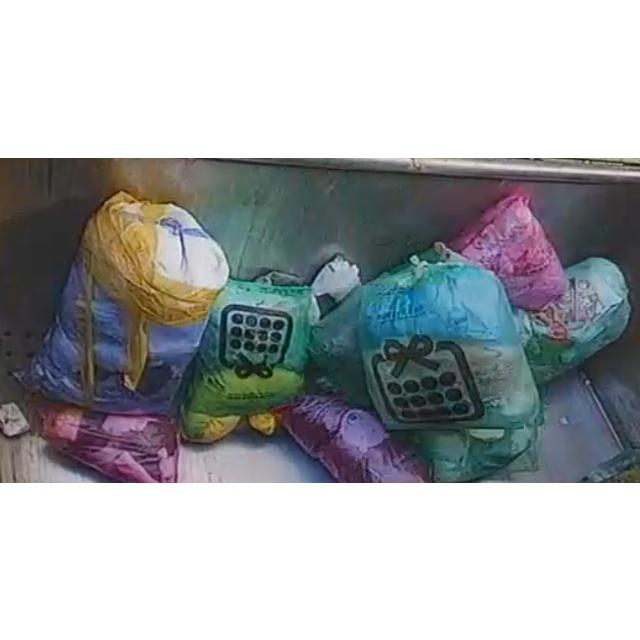general_trashbag: (358, 243, 540, 440), (184, 278, 312, 416)
other_trashbag: (15, 191, 229, 411), (451, 193, 566, 309)
